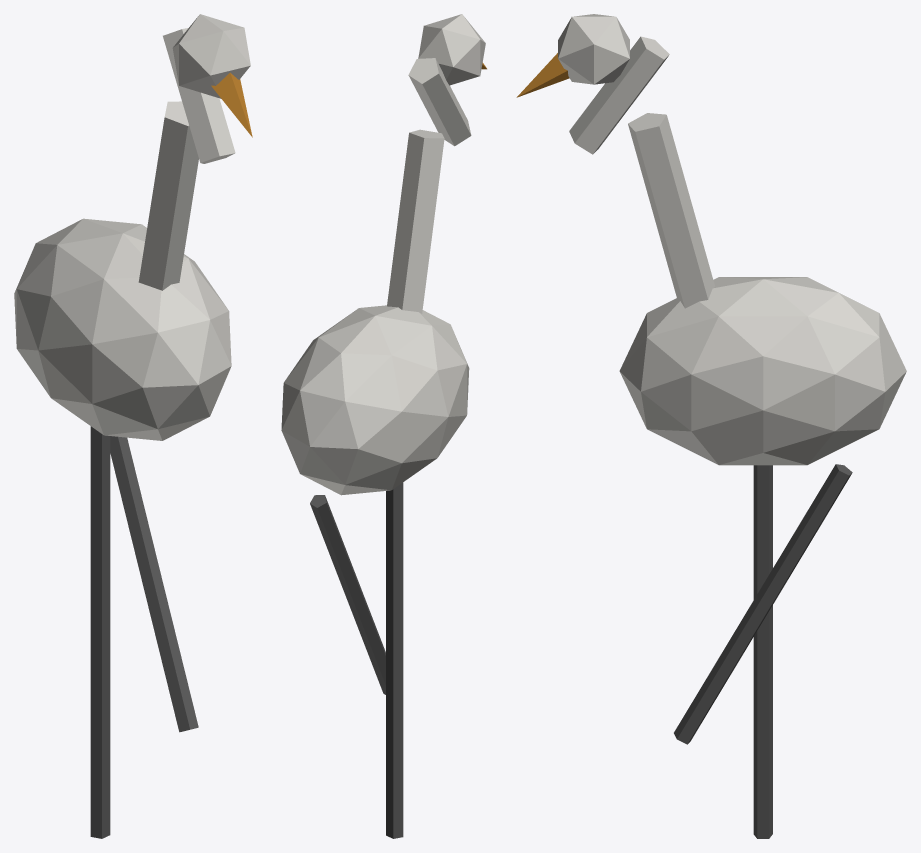
File: pelikan.glb
3 renders of one model, left to right at view 1: azimuth 30°, elevation 25°; view 2: azimuth 150°, elevation 25°; view 3: azimuth 270°, elevation 25°, orthographic. The views are drawn at different scales.
Visible parts, largest first — view 1: kbs_pelikan; view 2: kbs_pelikan; view 3: kbs_pelikan.
Part boxes in pixels (left/top/right/bottom): kbs_pelikan: left=14, top=14, right=252, bottom=838; kbs_pelikan: left=281, top=14, right=486, bottom=838; kbs_pelikan: left=516, top=14, right=906, bottom=838.
Bounding box in the file's own units: 0.3049 × 1.5 × 0.6406.
